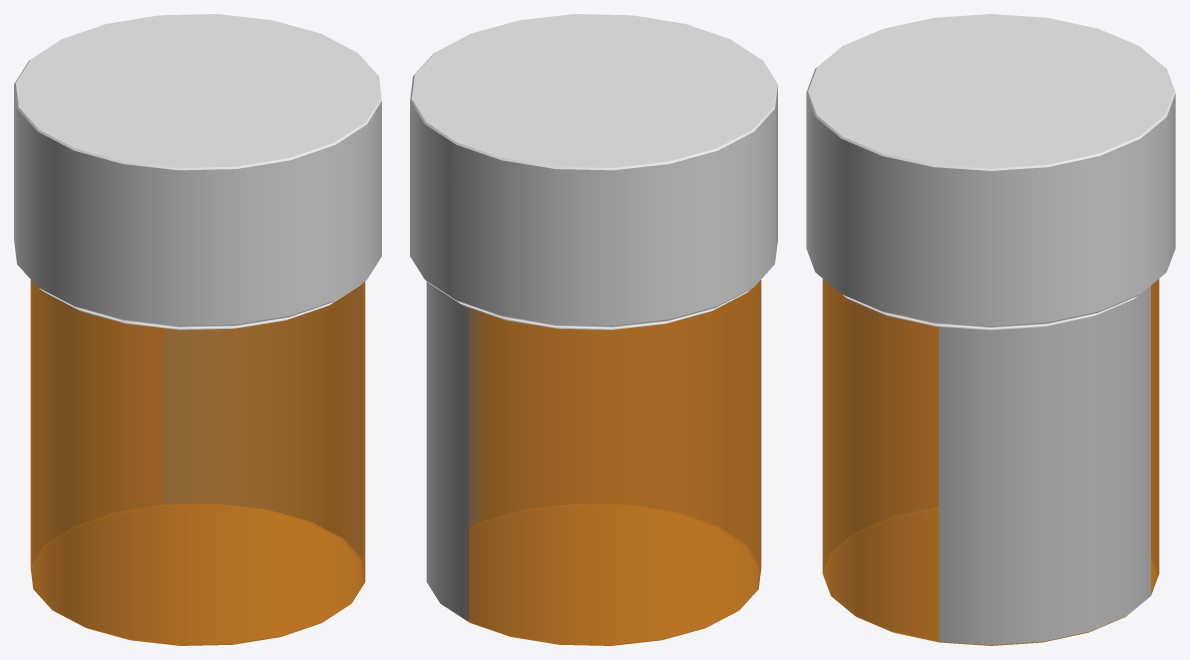
File: Pill Bottle.fbx
The picture shows the model from 3 angles, left to right: view 1: azimuth 30°, elevation 25°; view 2: azimuth 150°, elevation 25°; view 3: azimuth 270°, elevation 25°; orthographic projection.
Visible parts, largest first — view 1: pCylinder3; view 2: pCylinder3; view 3: pCylinder3.
Boxes of the visible parts, <box> form: pCylinder3: <box>14,14,381,645</box>; pCylinder3: <box>410,14,777,645</box>; pCylinder3: <box>806,14,1175,645</box>.
Bounding box in the file's own units: 4.3 × 6.21 × 4.3.
